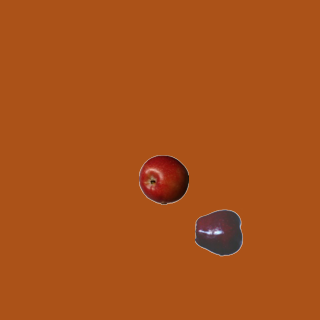Apple Braeburn: (138, 154, 188, 204)
Apple Red Delicious: (194, 207, 244, 257)
